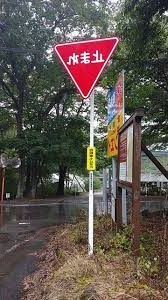Regulatory_sign_triangle: (51, 36, 123, 98)
